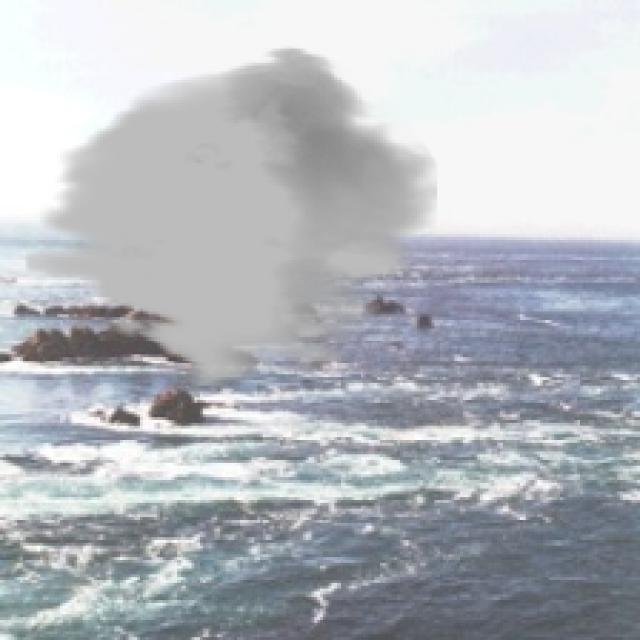Smoke: (26, 46, 437, 388)
